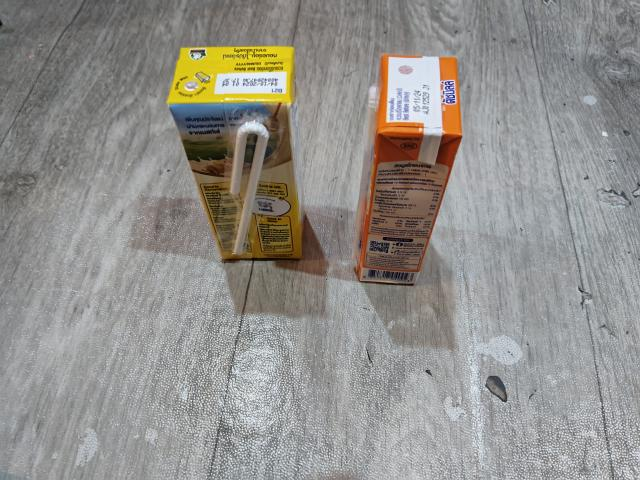drink_box: (159, 36, 315, 269), (366, 54, 461, 292)
